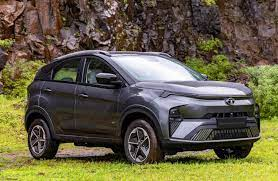Tata Nexon: (23, 47, 262, 171)
